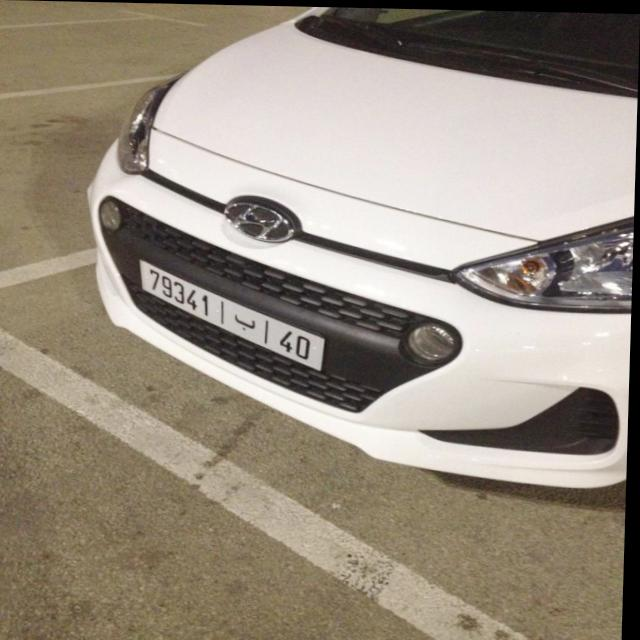License-Plate: (142, 260, 327, 368)
